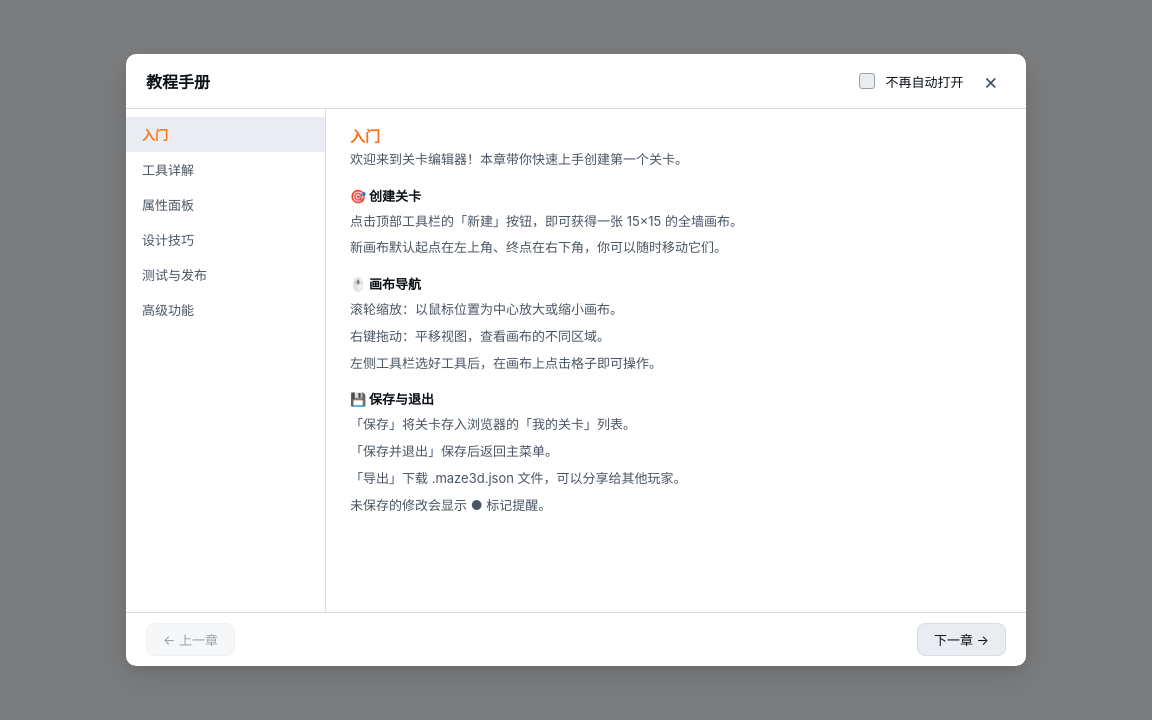
Test: EditorTutorialManual › switches chapter on TOC click and updates the content area
Click the button with test id "editor-manual-toc-ch2" at (226,170), box [126,152,325,187]
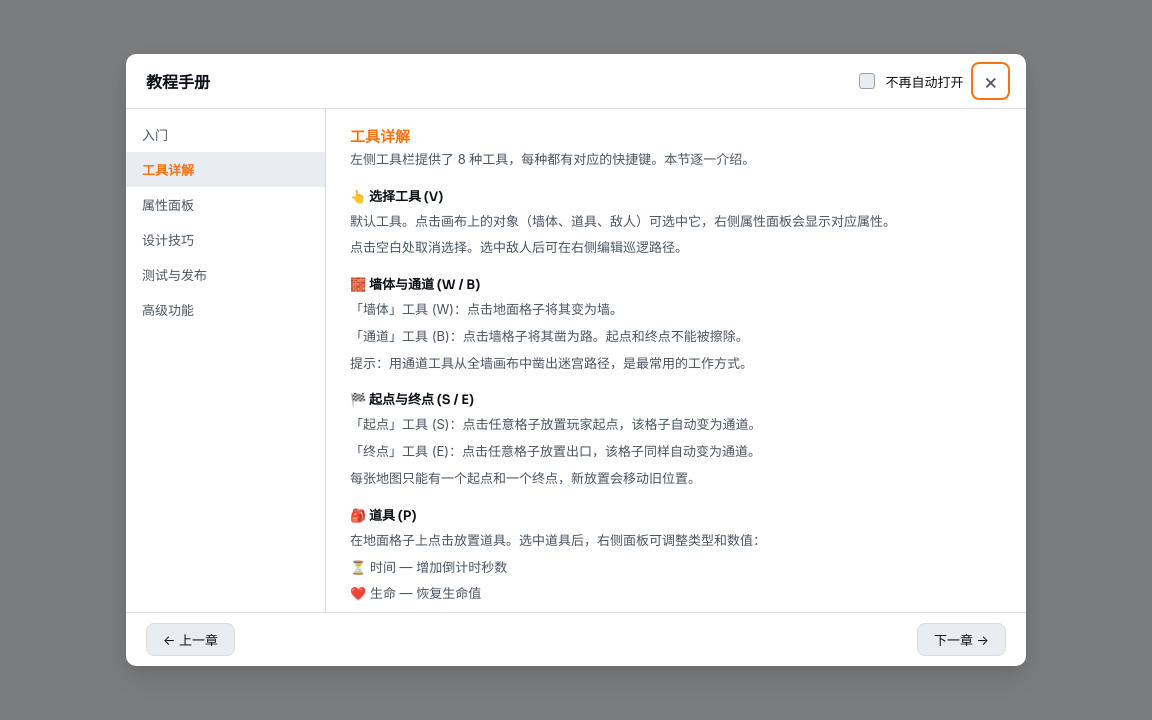
Expected: the heading no longer shows "入门"
